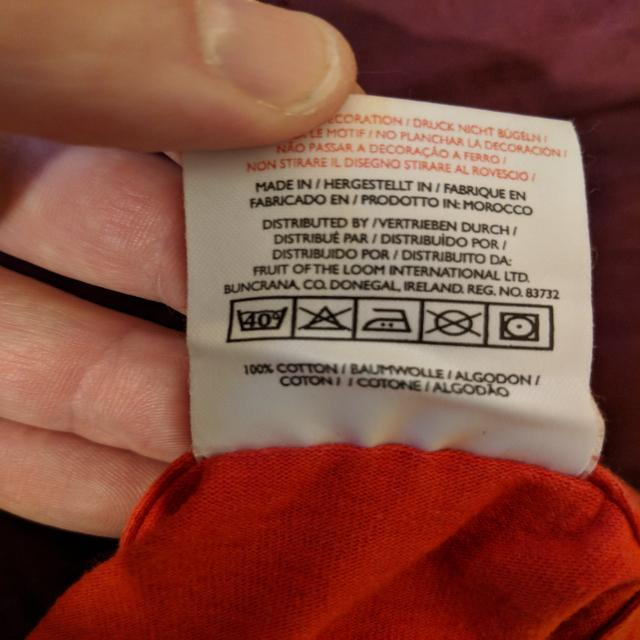40C: (239, 302, 289, 334)
DN_bleach: (298, 302, 355, 332)
DN_dry_clean: (423, 306, 483, 340)
iron_medium: (361, 305, 416, 336)
tumble_dry_low: (498, 312, 547, 343)
